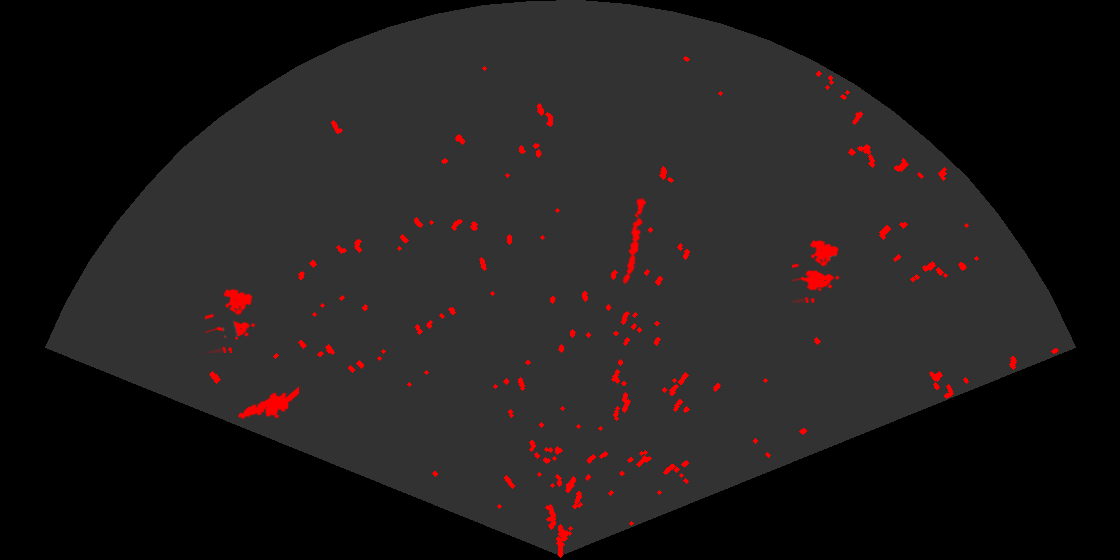cage: (205, 287, 257, 353), (792, 238, 841, 303)
chain: (621, 196, 648, 286)
frogman: (236, 385, 299, 421)
